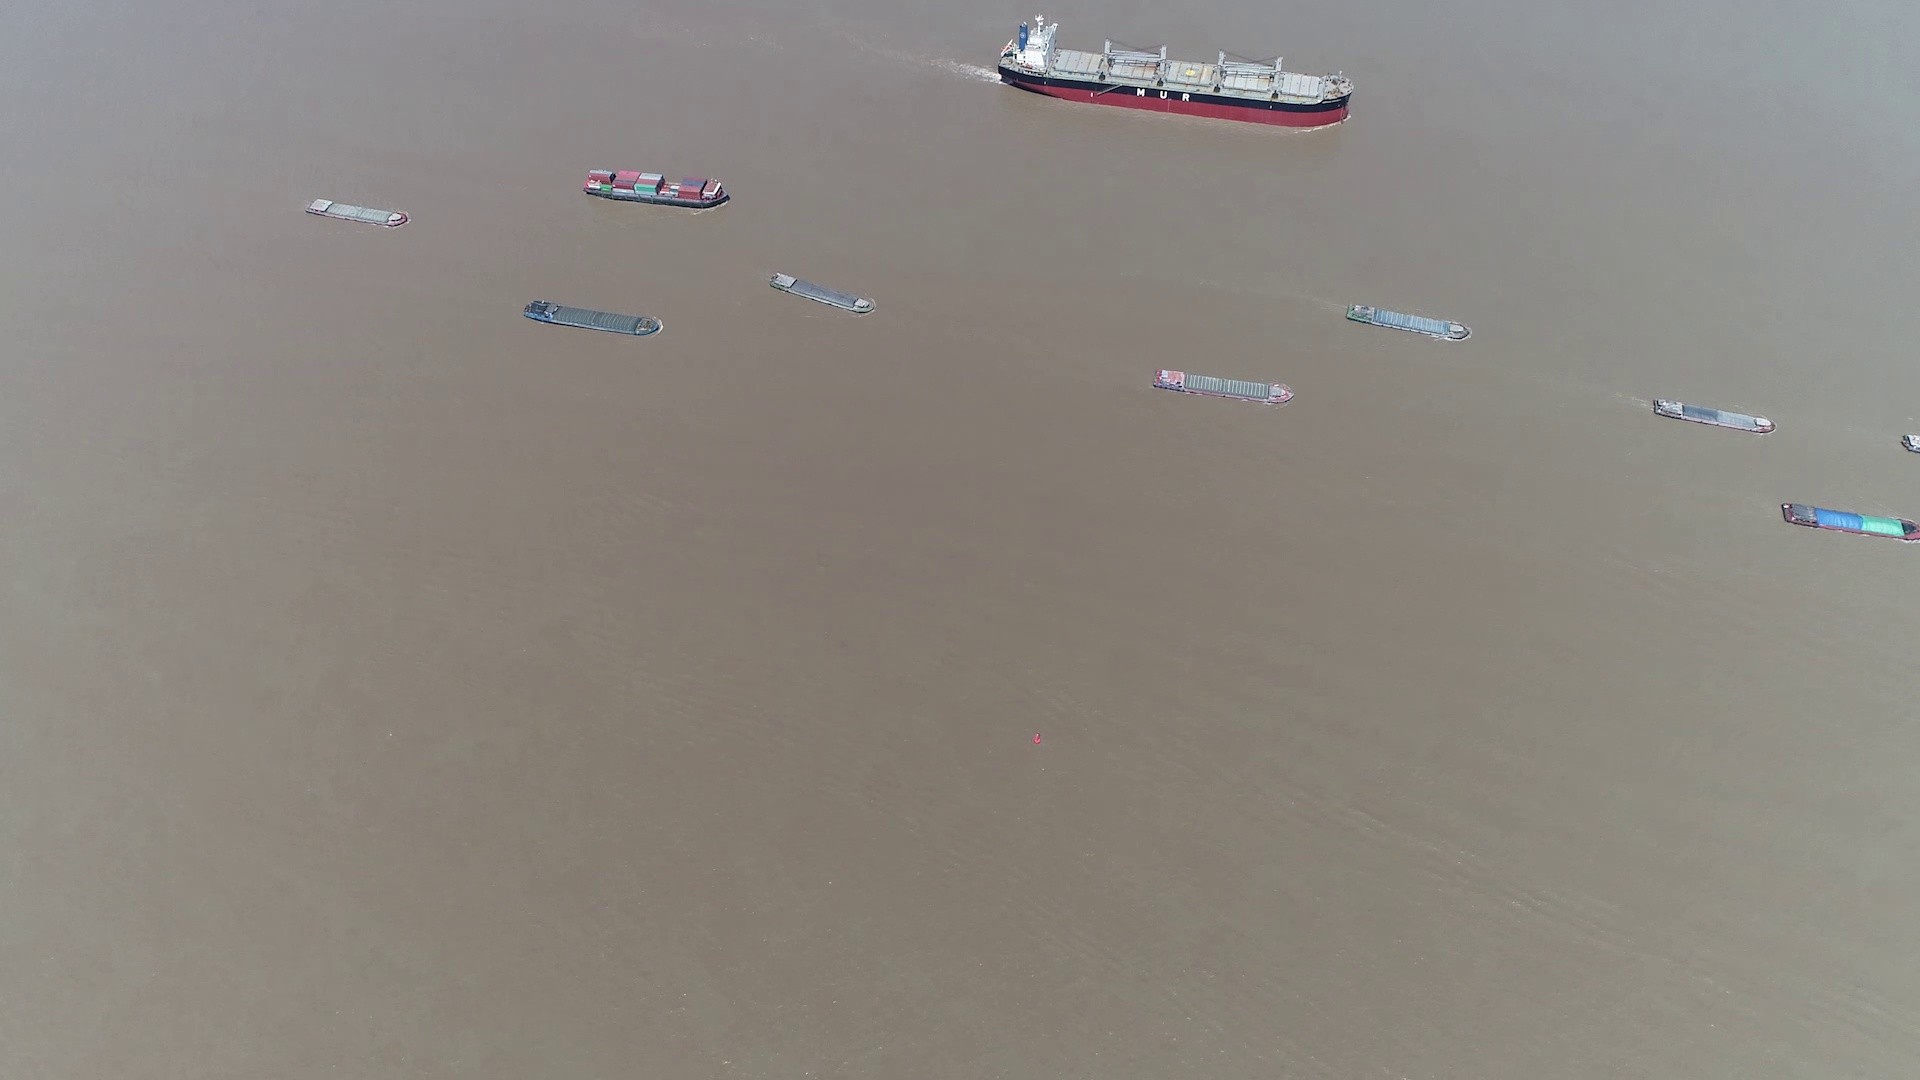ship: (997, 22, 1354, 127), (1783, 500, 1920, 542), (584, 170, 731, 208), (524, 299, 662, 338), (1648, 396, 1778, 435), (1346, 302, 1473, 342), (1153, 368, 1290, 404), (769, 273, 874, 316), (305, 196, 410, 228)
